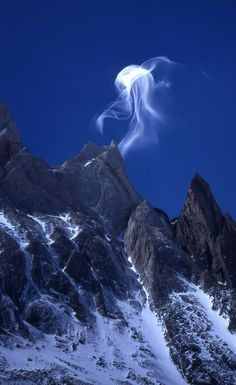Cirrus: (79, 36, 186, 154)
